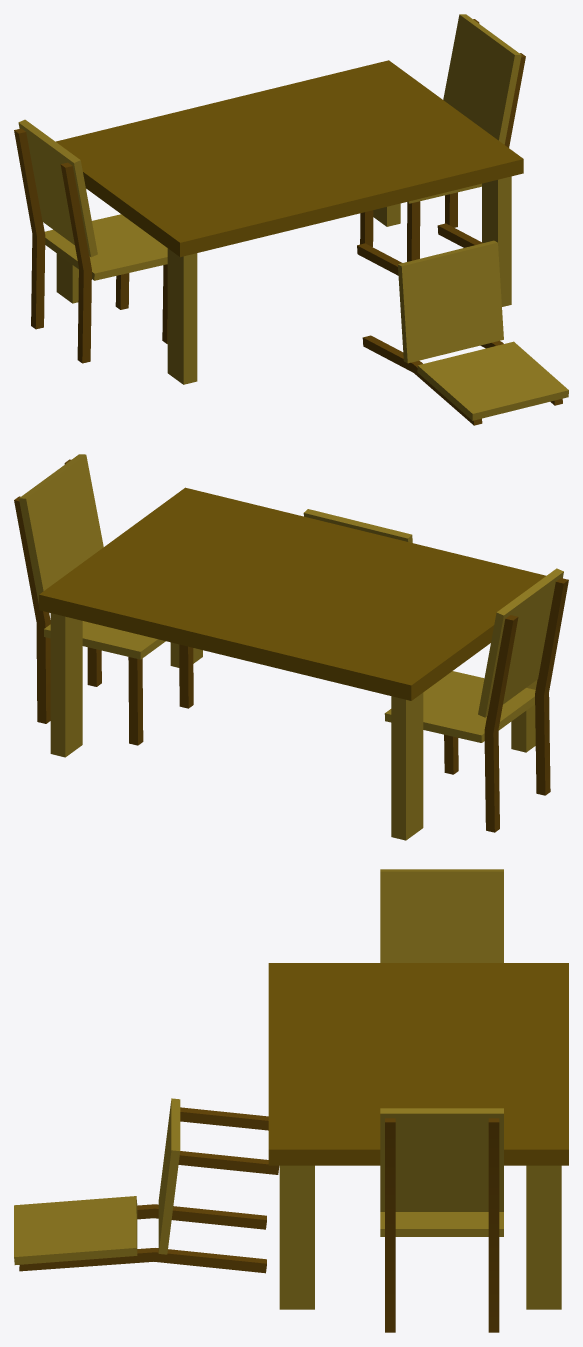
The model's file is Table_2.fbx.
3 views of the same model, one above another, from view 1: azimuth 30°, elevation 25°; view 2: azimuth 150°, elevation 25°; view 3: azimuth 270°, elevation 25° (orthographic). The views are drawn at different scales.
Visible parts, largest first — view 1: polySurface1; view 2: polySurface1; view 3: polySurface1.
Part boxes in pixels (<box>): polySurface1: <box>14,14,568,425</box>; polySurface1: <box>14,454,568,840</box>; polySurface1: <box>14,869,568,1332</box>.
Bounding box in the file's own units: 29.33 × 12.61 × 27.49.
